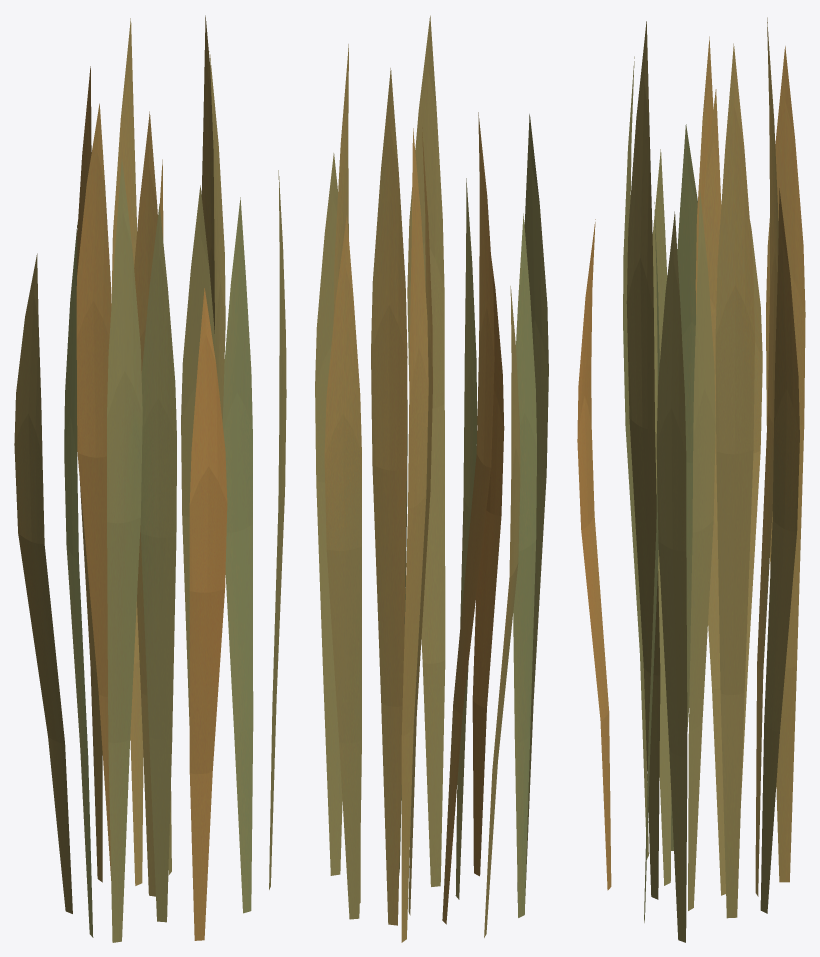
The model's file is tallGrass.fbx.
The picture shows the model from 3 angles, left to right: view 1: azimuth 30°, elevation 25°; view 2: azimuth 150°, elevation 25°; view 3: azimuth 270°, elevation 25°; orthographic projection.
Visible parts, largest first — view 1: tall grass clump; view 2: tall grass clump; view 3: tall grass clump.
Boxes of the visible parts, <box> form: tall grass clump: <box>14,15,286,942</box>; tall grass clump: <box>315,15,548,942</box>; tall grass clump: <box>577,17,805,942</box>.
Size of the model in its own units: 35.3 by 125 by 29.28.
